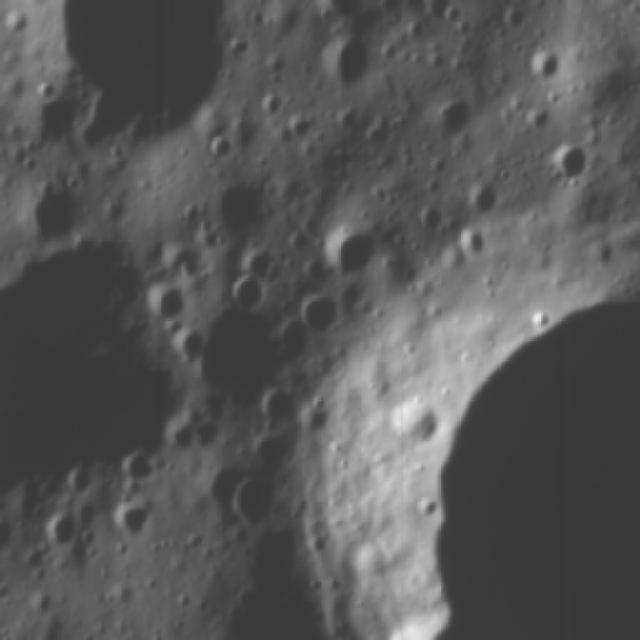crater: (284, 187, 638, 640), (204, 162, 270, 252), (19, 177, 92, 251), (215, 466, 287, 534), (318, 30, 384, 96), (320, 215, 386, 280), (104, 495, 156, 554), (266, 318, 319, 373), (425, 81, 484, 130), (296, 284, 346, 341), (538, 142, 596, 190), (144, 281, 193, 327), (46, 508, 86, 560), (114, 451, 161, 494), (524, 42, 568, 86), (230, 274, 272, 318), (57, 461, 98, 504), (202, 133, 240, 167)
